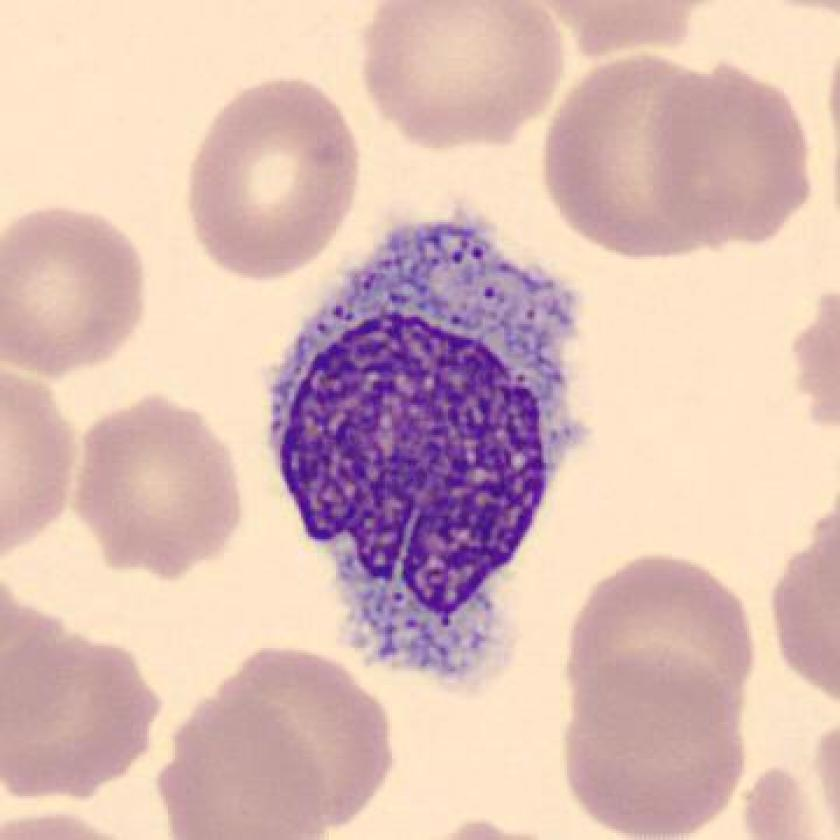monocyte: (241, 184, 610, 702)
